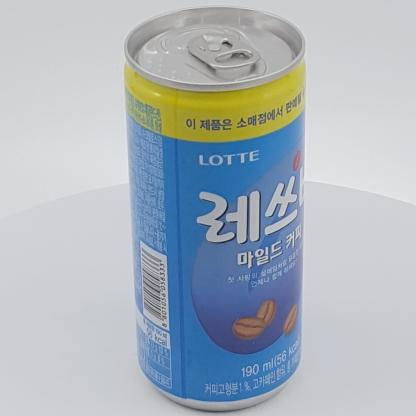------190ml: (122, 5, 307, 411)
